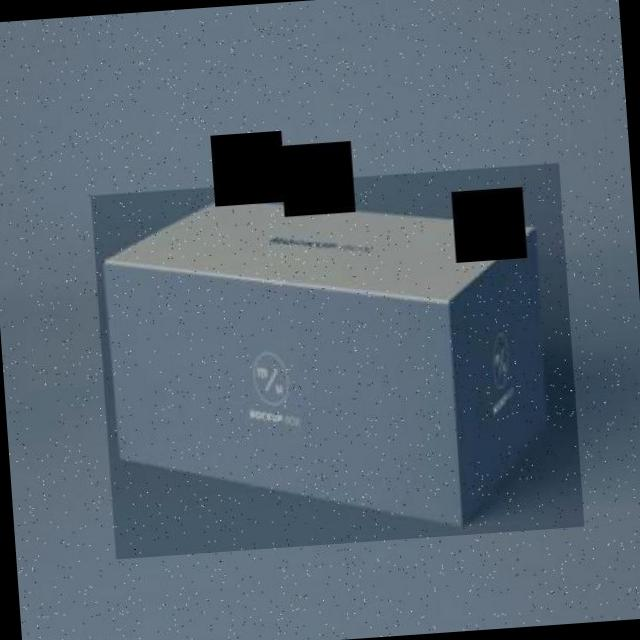box: (90, 162, 584, 560)
